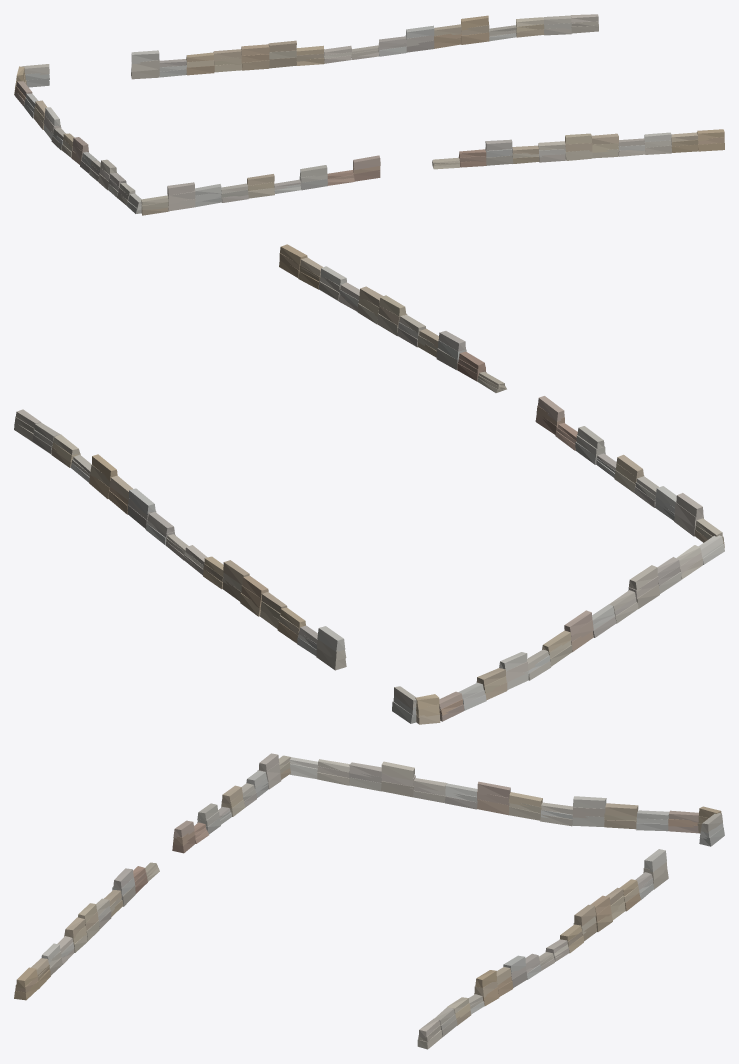
File: farm_5_-5_mid.glb
3 views of the same model, one above another, from view 1: azimuth 30°, elevation 25°; view 2: azimuth 150°, elevation 25°; view 3: azimuth 270°, elevation 25° (orthographic). The views are drawn at different scales.
Visible parts, largest first — view 1: geometry_0; view 2: geometry_0; view 3: geometry_0.
Part boxes in pixels (x1,y1,x2,y2): geometry_0: (14,14,724,215); geometry_0: (14,244,724,724); geometry_0: (14,753,724,1049).
Bounding box in the file's own units: 34.9 × 5.15 × 35.01.
